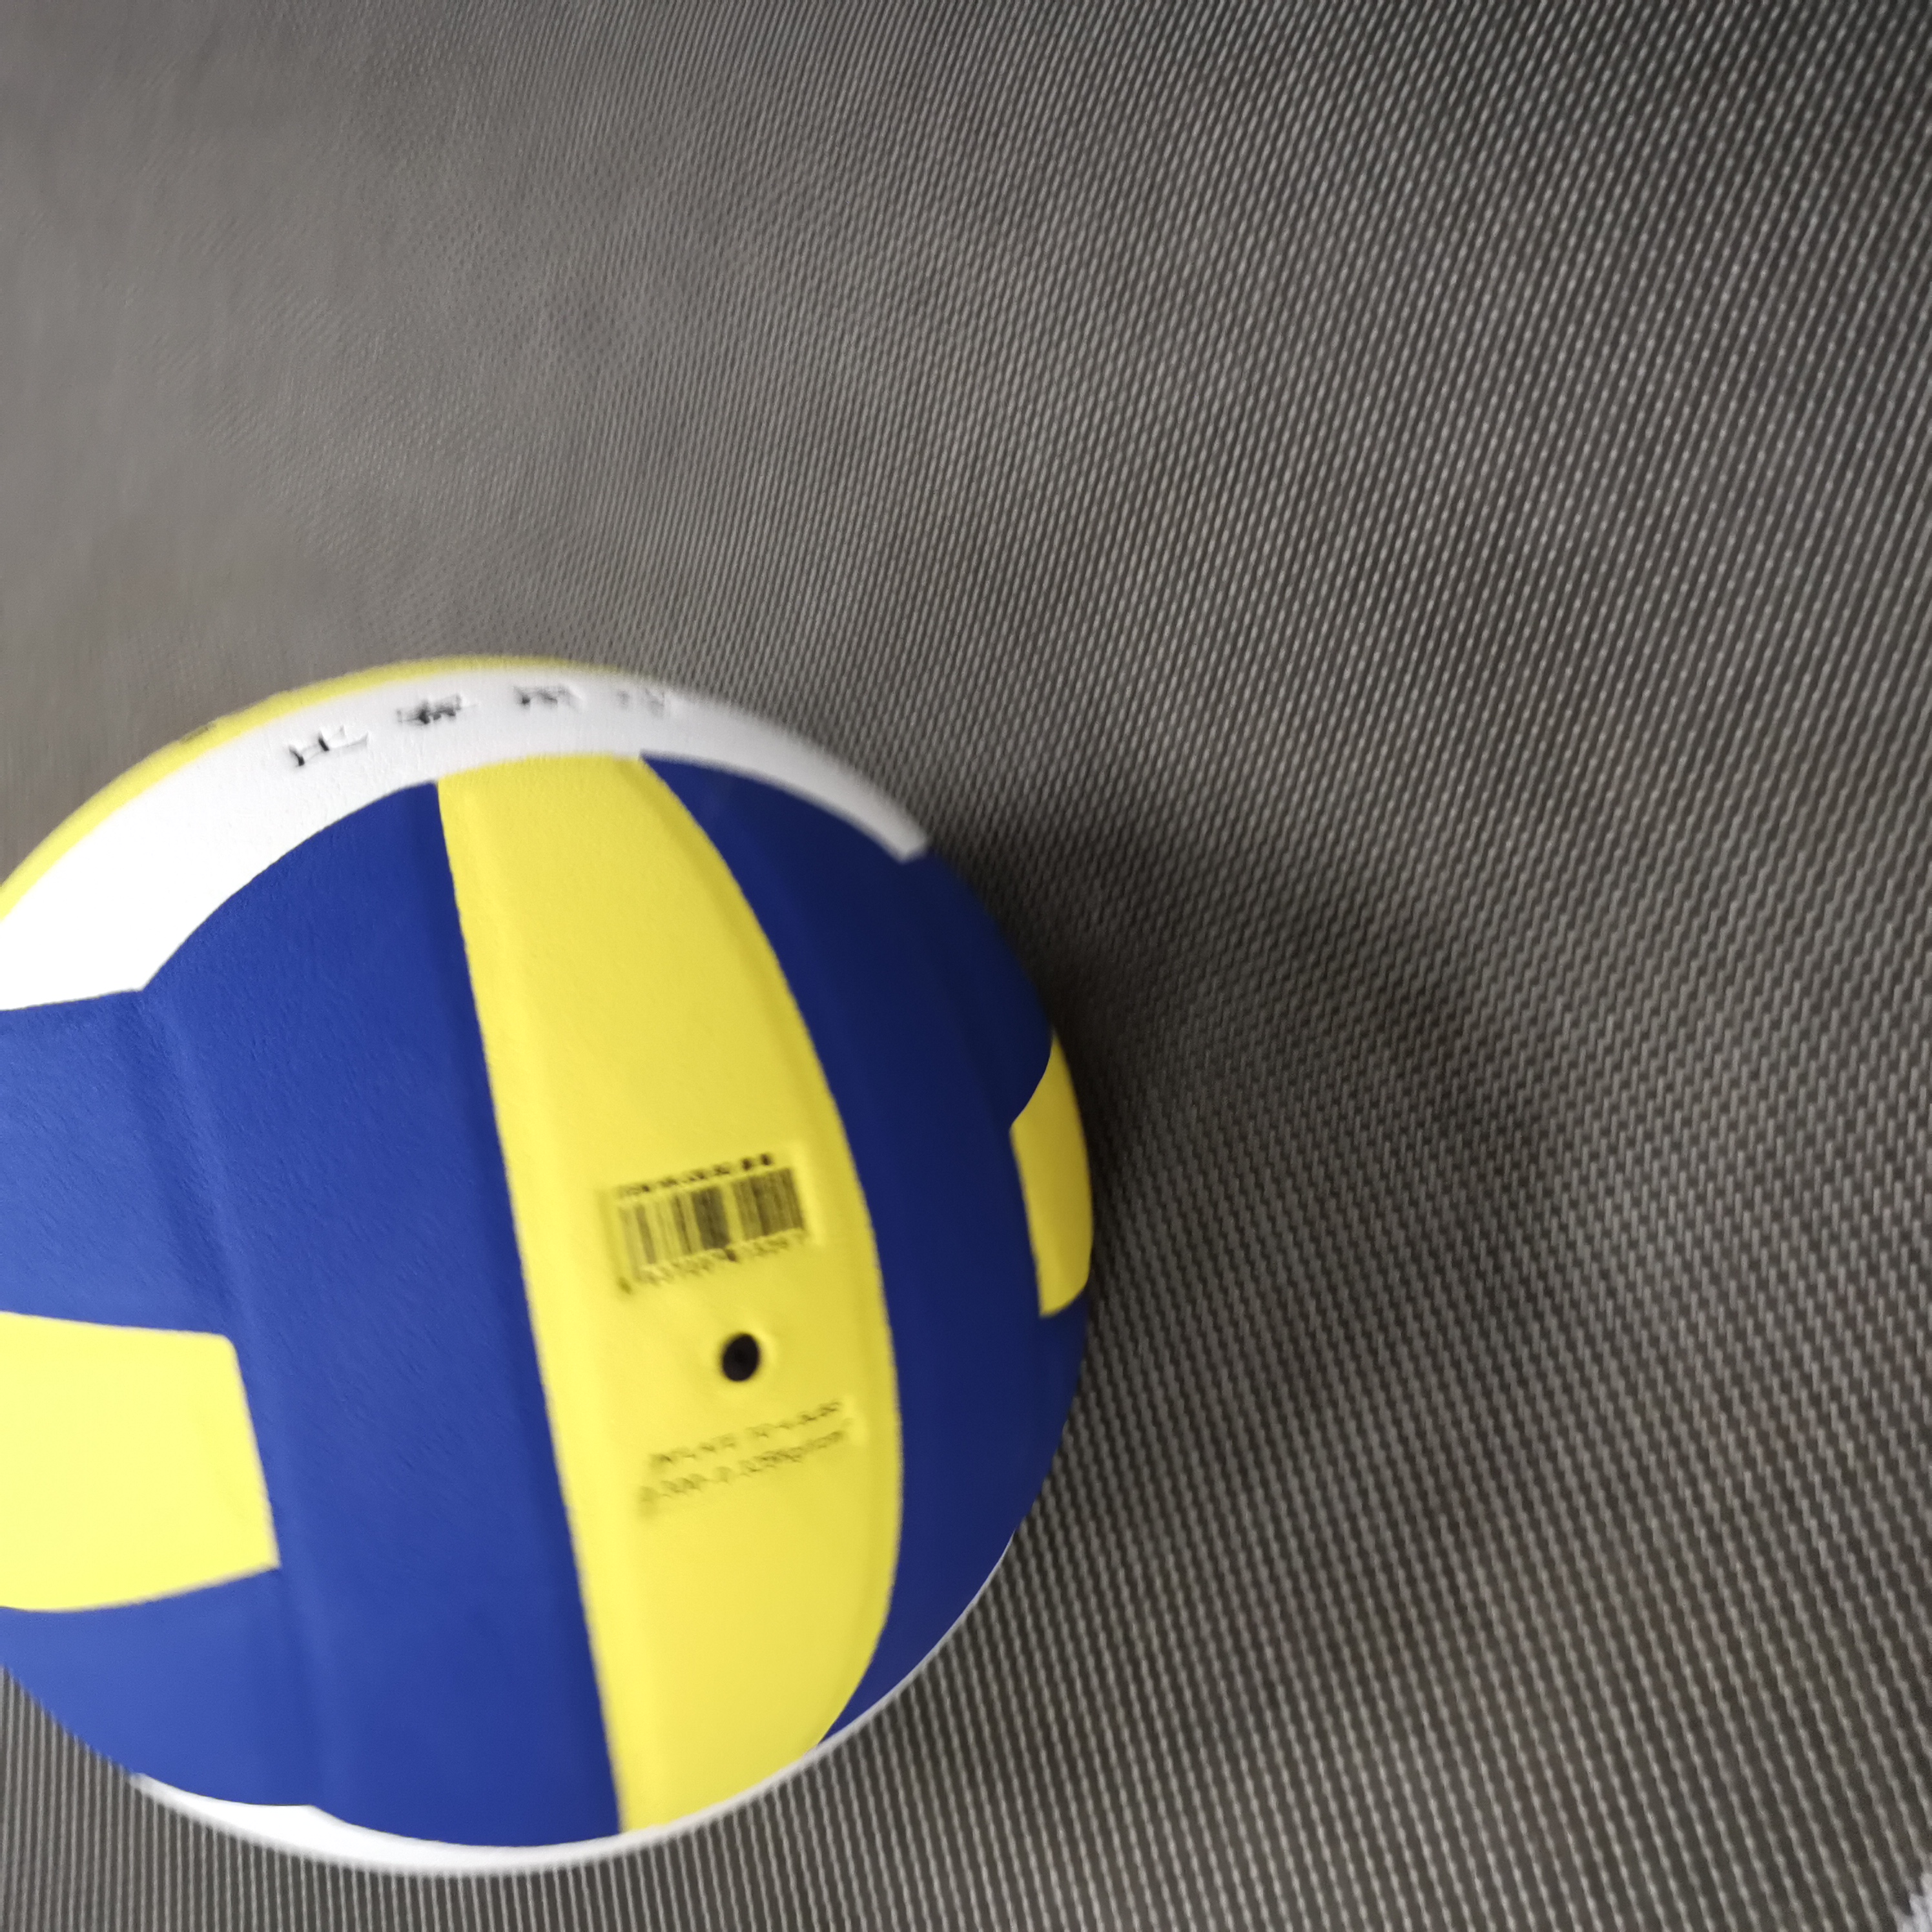volleyball: (18, 651, 1093, 1884)
